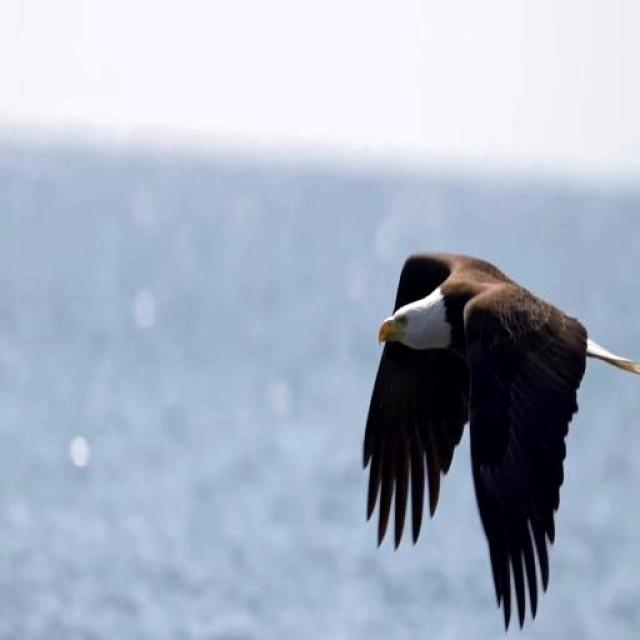airplane: (349, 235, 614, 635)
